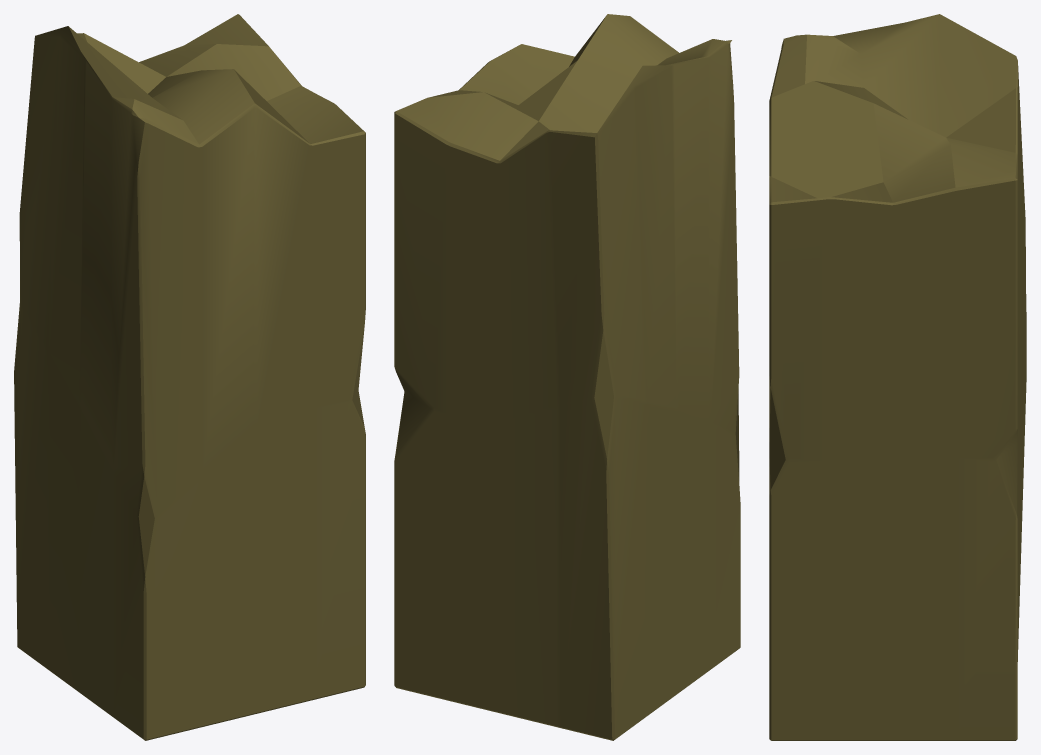
The model's file is pillar_broken_bottom.fbx.
3 renders of one model, left to right at view 1: azimuth 30°, elevation 25°; view 2: azimuth 150°, elevation 25°; view 3: azimuth 270°, elevation 25°, orthographic. The views are drawn at different scales.
Visible parts, largest first — view 1: Pillar_Broken_Bottom; view 2: Pillar_Broken_Bottom; view 3: Pillar_Broken_Bottom.
Part boxes in pixels (bbox=[...]): Pillar_Broken_Bottom: bbox=[14, 14, 365, 740]; Pillar_Broken_Bottom: bbox=[394, 14, 740, 740]; Pillar_Broken_Bottom: bbox=[769, 14, 1026, 740].
Bounding box in the file's own units: 115 × 321 × 119.
